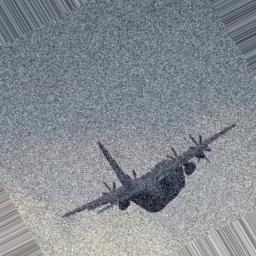Airplane: (60, 124, 236, 219)
